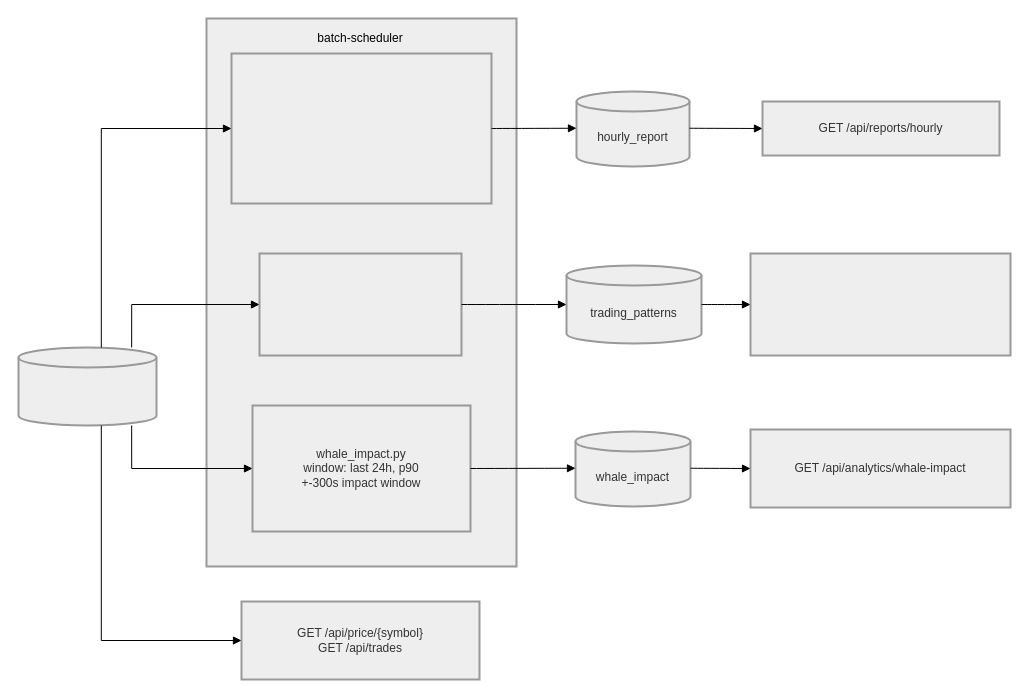
The diagram is 1028 pixels wide and 697 high, and some of its shapes have lost their labels. The shapes that lost their labels are listed below. From the top down, each one's centre as x and y in pixels, then its label:
At [361,128]: "hourly_report.py window: last 12h (виключаючи поточну годину)".
At [360,304]: "trading_patterns.py window: усі дані".
At [880,304]: "GET /api/analytics/trading-patterns".
At [87,386]: "Cassandra.trades".
